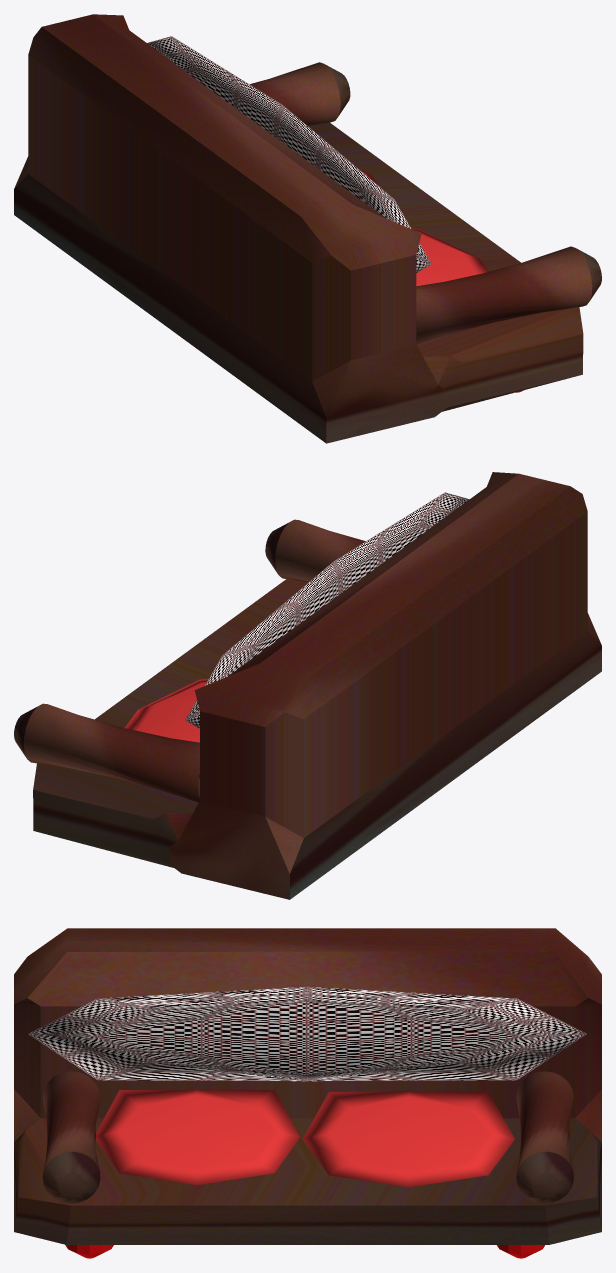
File: ModdedCouch.fbx
3 renders of one model, top to bottom at view 1: azimuth 30°, elevation 25°; view 2: azimuth 150°, elevation 25°; view 3: azimuth 270°, elevation 25°, orthographic. The views are drawn at different scales.
Parts seen in each view (by area): view 1: polySurface2, pCube3, pCube4; view 2: polySurface2, pCube3, pCube5; view 3: polySurface2, pCube3, pCube5, pCube4.
Part boxes in pixels (box(x1,y1,x2,y2)): polySurface2: box(14, 14, 601, 443); pCube3: box(147, 36, 431, 272); pCube4: box(411, 228, 488, 286); polySurface2: box(14, 472, 601, 899); pCube3: box(185, 492, 469, 728); pCube5: box(125, 679, 208, 742); polySurface2: box(14, 928, 601, 1258); pCube3: box(28, 986, 586, 1081); pCube5: box(302, 1091, 514, 1187); pCube4: box(96, 1089, 300, 1185).
Bounding box in the file's own units: 6.07 × 4.61 × 11.01.
4 materials, 2 textured.
